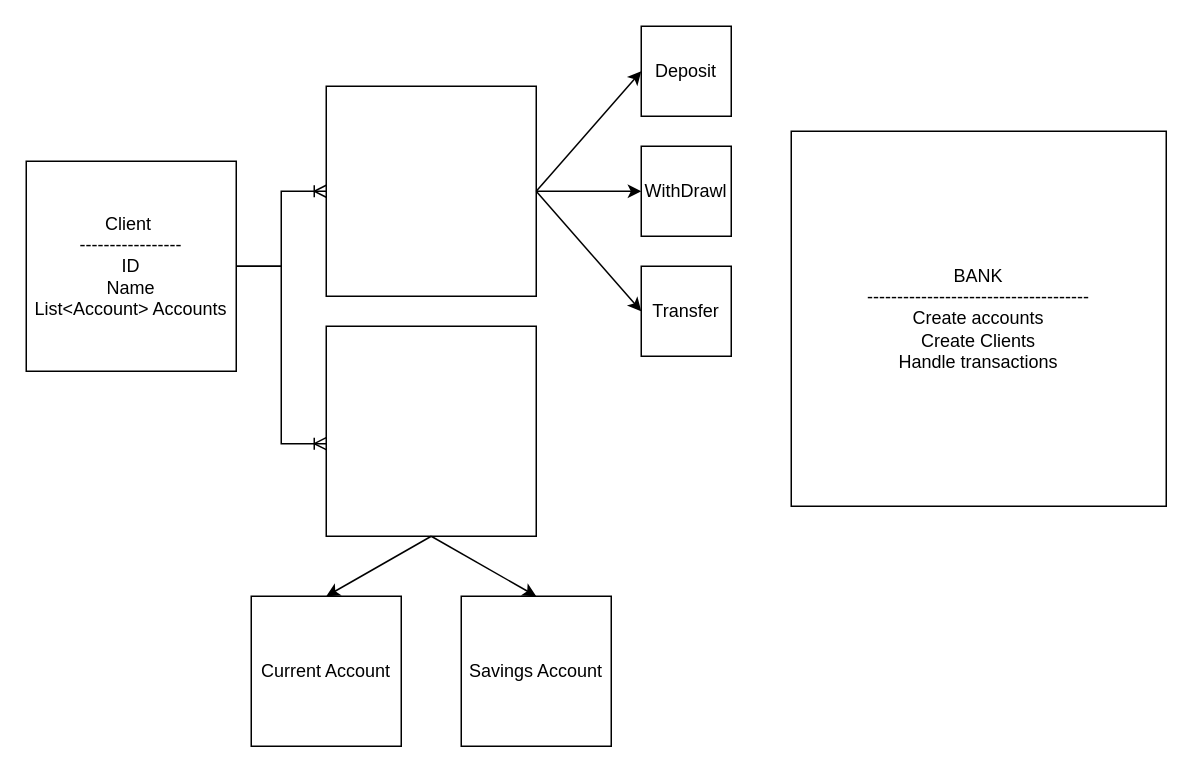
The diagram is 1193 pixels wide and 773 high, and some of its shapes have lost their labels. Each missing label, with the centre of its shape:
"Account --------------- ID Balance" goes at point 430,430.
"Transaction ------------------------ ID" goes at point 430,190.
